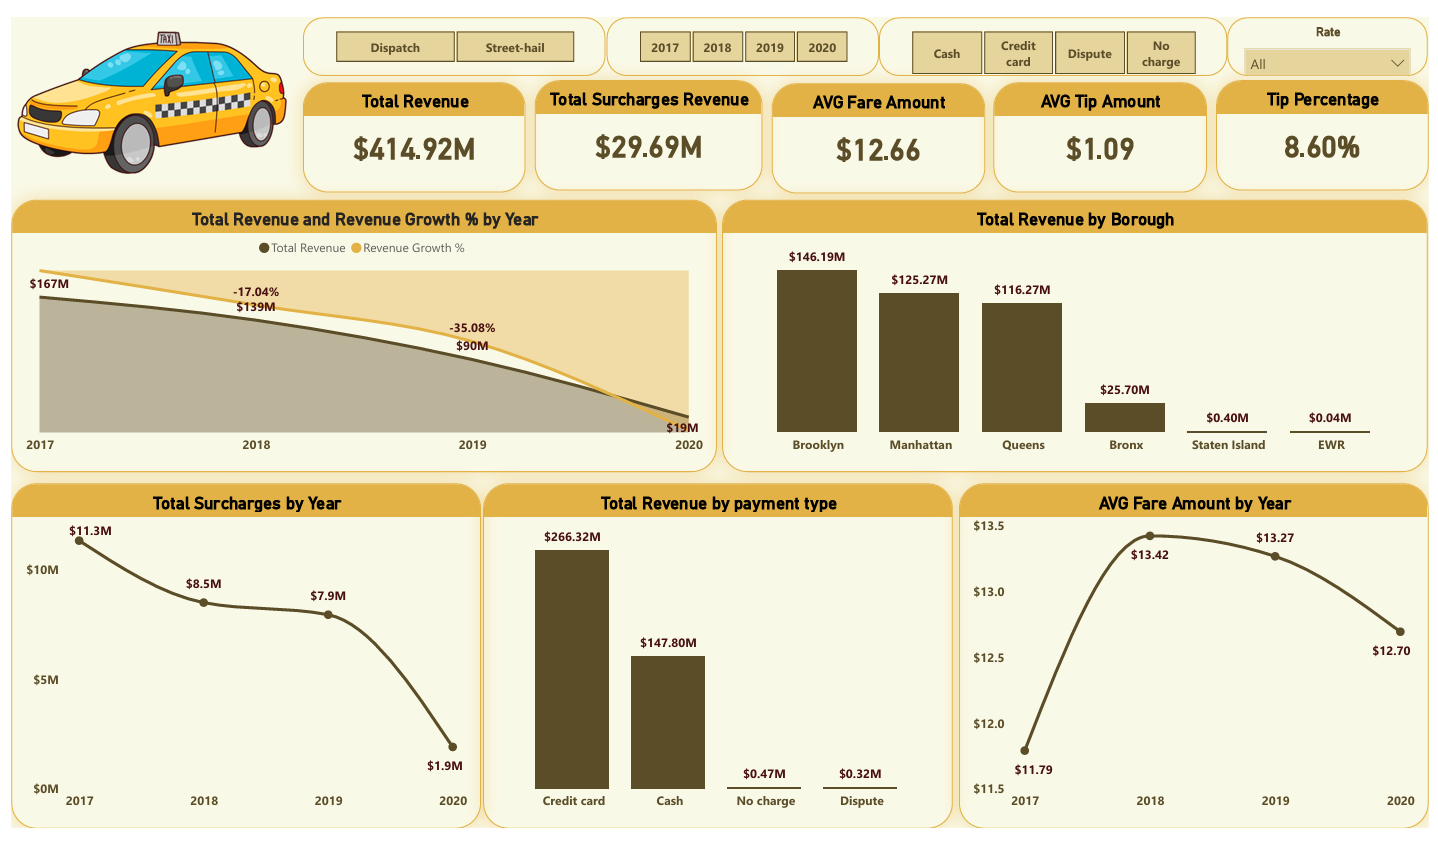

Layout of this report page (visuals, bound fields, positions):
{"tool":"powerbi","page":{"name":"Financial KPIs","canvas":[1400,800],"ordinal":0},"visuals":[{"type":"card","title":"Total Revenue","fields":{"Values":["_Measures.Total Revenue"]},"box":[288.3,63.5,220,109],"z":0},{"type":"card","title":"AVG Fare Amount","fields":{"Values":["_Measures.AVG Fare Amount"]},"box":[751.1,64.9,210.5,109],"z":1000},{"type":"card","title":"AVG Tip Amount","fields":{"Values":["_Measures.AVG Tip Amount"]},"box":[970.4,63.5,210.5,109],"z":2000},{"type":"card","title":"Tip Percentage","fields":{"Values":["_Measures.Tip %"]},"box":[1189.6,62.2,210.5,109],"z":3000},{"type":"card","title":"Total Surcharges Revenue","fields":{"Values":["_Measures.Total Surcharges"]},"box":[517.1,62.2,225.2,109],"z":4000},{"type":"image","box":[0,0,278.8,170.2],"z":5000},{"type":"lineChart","title":"AVG Fare Amount by Year","fields":{"Y":["_Measures.AVG Fare Amount"],"Category":["Dim_Date.Date.Variation.Date Hierarchy.Year","Dim_Date.MonthName","Dim_Date.DayName"]},"box":[935.7,459.8,464,341],"z":6000},{"type":"areaChart","fields":{"Category":["Dim_Date.Date.Variation.Date Hierarchy.Year","Dim_Date.MonthName","Dim_Date.DayName"],"Y":["_Measures.Total Surcharges"]},"box":[0,459.8,464,341],"z":7000},{"type":"slicer","fields":{"Values":["Fact_Trips.trip_type"]},"box":[288.2,0,298.9,58],"z":8000},{"type":"slicer","title":"Payment Type","fields":{"Values":["Fact_Trips.payment_type"]},"box":[856.6,0,344.5,57.6],"z":9000},{"type":"slicer","fields":{"Values":["Dim_Date.Date.Variation.Date Hierarchy.Year"]},"box":[588.5,0,268.1,57.6],"z":10000},{"type":"slicer","title":"Rate","fields":{"Values":["Fact_Trips.Ratecode"]},"box":[1201.1,0,198.4,58],"z":11000},{"type":"lineChart","fields":{"Category":["Dim_Date.Date.Variation.Date Hierarchy.Year"],"Y":["_Measures.Total Revenue"],"Y2":["_Measures.Revenue Growth %"]},"box":[0,179.6,697.1,269.4],"z":12000},{"type":"columnChart","fields":{"Y":["_Measures.Total Revenue"],"Category":["Fact_Trips.payment_type","Fact_Trips.trip_type","Fact_Trips.VendorID"]},"box":[466.5,459.8,464,341],"z":13000},{"type":"clusteredColumnChart","fields":{"Y":["_Measures.Total Revenue"],"Category":["Dim_Zones.Borough","Dim_Zones.service_zone"]},"box":[702.4,179.6,697.1,269.4],"z":14000}]}

Visuals, with their boxes in screenshot pixels (x1, y1, x2, y2), scaled from the page's 1400x800 canvas onto the 1438x842 screenshot:
"Total Revenue" card: (left=296, top=67, right=522, bottom=182)
"AVG Fare Amount" card: (left=771, top=68, right=988, bottom=183)
"AVG Tip Amount" card: (left=997, top=67, right=1213, bottom=182)
"Tip Percentage" card: (left=1222, top=65, right=1437, bottom=180)
"Total Surcharges Revenue" card: (left=531, top=65, right=762, bottom=180)
image: (left=0, top=0, right=286, bottom=179)
"AVG Fare Amount by Year" lineChart: (left=961, top=484, right=1437, bottom=841)
areaChart - Dim_Date.Date.Variation.Date Hierarchy.Year x Dim_Date.MonthName: (left=0, top=484, right=477, bottom=841)
slicer - Fact_Trips.trip_type: (left=296, top=0, right=603, bottom=61)
"Payment Type" slicer: (left=880, top=0, right=1234, bottom=61)
slicer - Dim_Date.Date.Variation.Date Hierarchy.Year: (left=604, top=0, right=880, bottom=61)
"Rate" slicer: (left=1234, top=0, right=1437, bottom=61)
lineChart - Dim_Date.Date.Variation.Date Hierarchy.Year x _Measures.Total Revenue: (left=0, top=189, right=716, bottom=473)
columnChart - _Measures.Total Revenue x Fact_Trips.payment_type: (left=479, top=484, right=956, bottom=841)
clusteredColumnChart - _Measures.Total Revenue x Dim_Zones.Borough: (left=721, top=189, right=1437, bottom=473)
